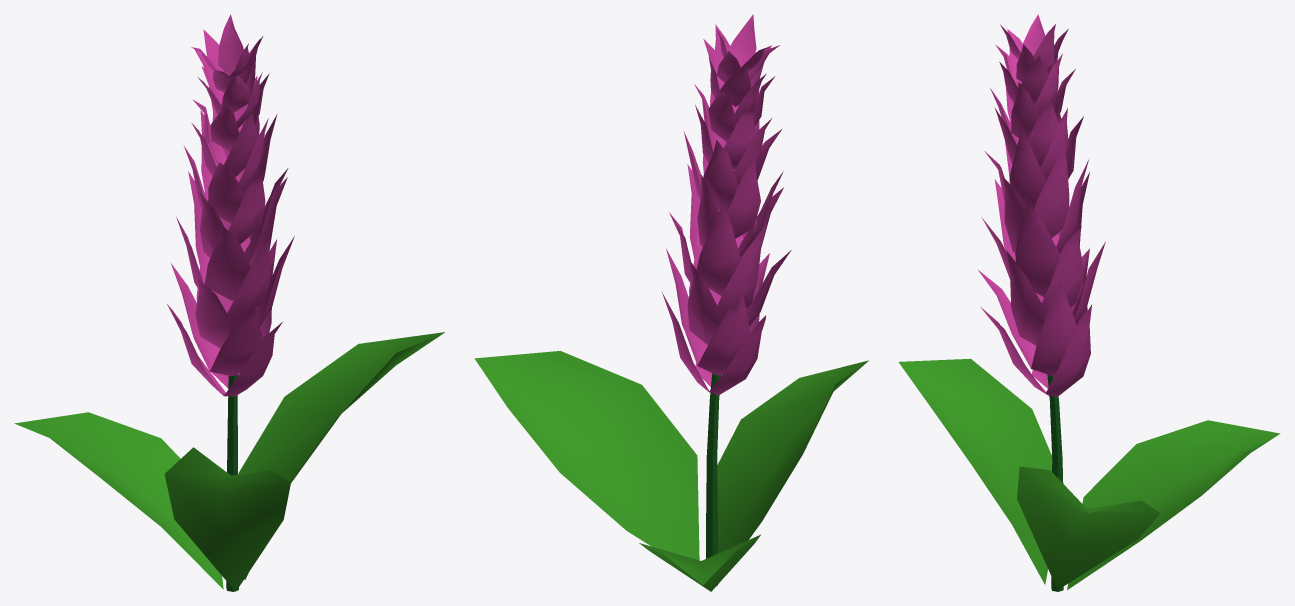
File: fleur 6.fbx
3 views of the same model, side by side, from view 1: azimuth 30°, elevation 25°; view 2: azimuth 150°, elevation 25°; view 3: azimuth 270°, elevation 25° (orthographic). The views are drawn at different scales.
Parts seen in each view (by area): view 1: Flower.002; view 2: Flower.002; view 3: Flower.002.
Boxes of the visible parts, bbox=[...] form: Flower.002: bbox=[14, 14, 445, 591]; Flower.002: bbox=[474, 14, 868, 591]; Flower.002: bbox=[898, 14, 1280, 591].
Size of the model in its own units: 0.2119 by 0.3497 by 0.2135.
